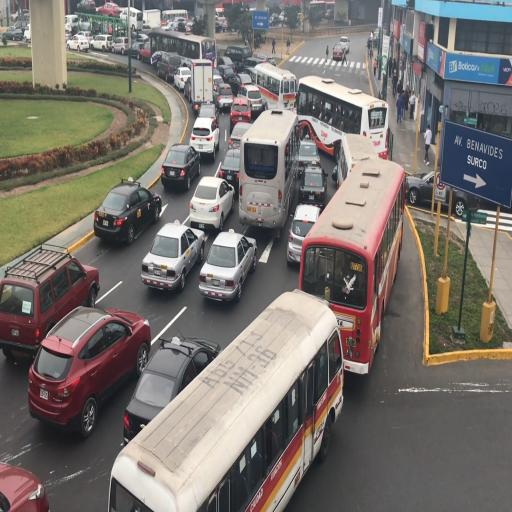auto: (29, 306, 149, 434), (125, 329, 224, 445), (0, 244, 98, 358), (92, 176, 161, 246), (141, 221, 206, 291), (199, 229, 257, 302), (404, 169, 478, 217), (0, 277, 41, 349), (188, 176, 234, 232), (0, 460, 48, 510), (161, 143, 201, 191), (189, 113, 219, 161), (298, 163, 326, 208), (218, 148, 241, 193), (238, 83, 264, 118), (229, 94, 253, 131), (227, 121, 251, 157), (155, 50, 182, 82), (297, 138, 321, 173), (196, 102, 218, 134), (214, 82, 234, 114), (224, 44, 248, 70), (216, 60, 237, 88), (241, 56, 266, 79), (173, 66, 193, 92), (234, 72, 254, 95), (91, 33, 113, 52), (66, 34, 89, 52), (109, 36, 130, 55), (138, 41, 154, 64), (212, 72, 225, 98), (3, 26, 24, 42), (186, 16, 204, 34), (97, 2, 120, 16), (253, 53, 276, 67), (169, 17, 188, 32), (64, 14, 78, 34), (76, 0, 96, 13), (131, 28, 148, 42), (78, 14, 91, 32), (74, 30, 92, 43), (150, 50, 164, 66), (332, 42, 343, 60), (216, 16, 228, 32), (113, 24, 126, 38), (20, 17, 30, 34), (339, 36, 350, 50), (160, 20, 175, 30), (269, 13, 280, 26), (20, 8, 30, 21), (65, 23, 72, 37), (10, 10, 18, 22)
bus: (143, 8, 164, 29)
moto: (111, 293, 331, 504), (300, 148, 402, 366), (238, 106, 296, 236), (299, 75, 383, 163), (250, 61, 295, 113), (164, 8, 188, 22)
